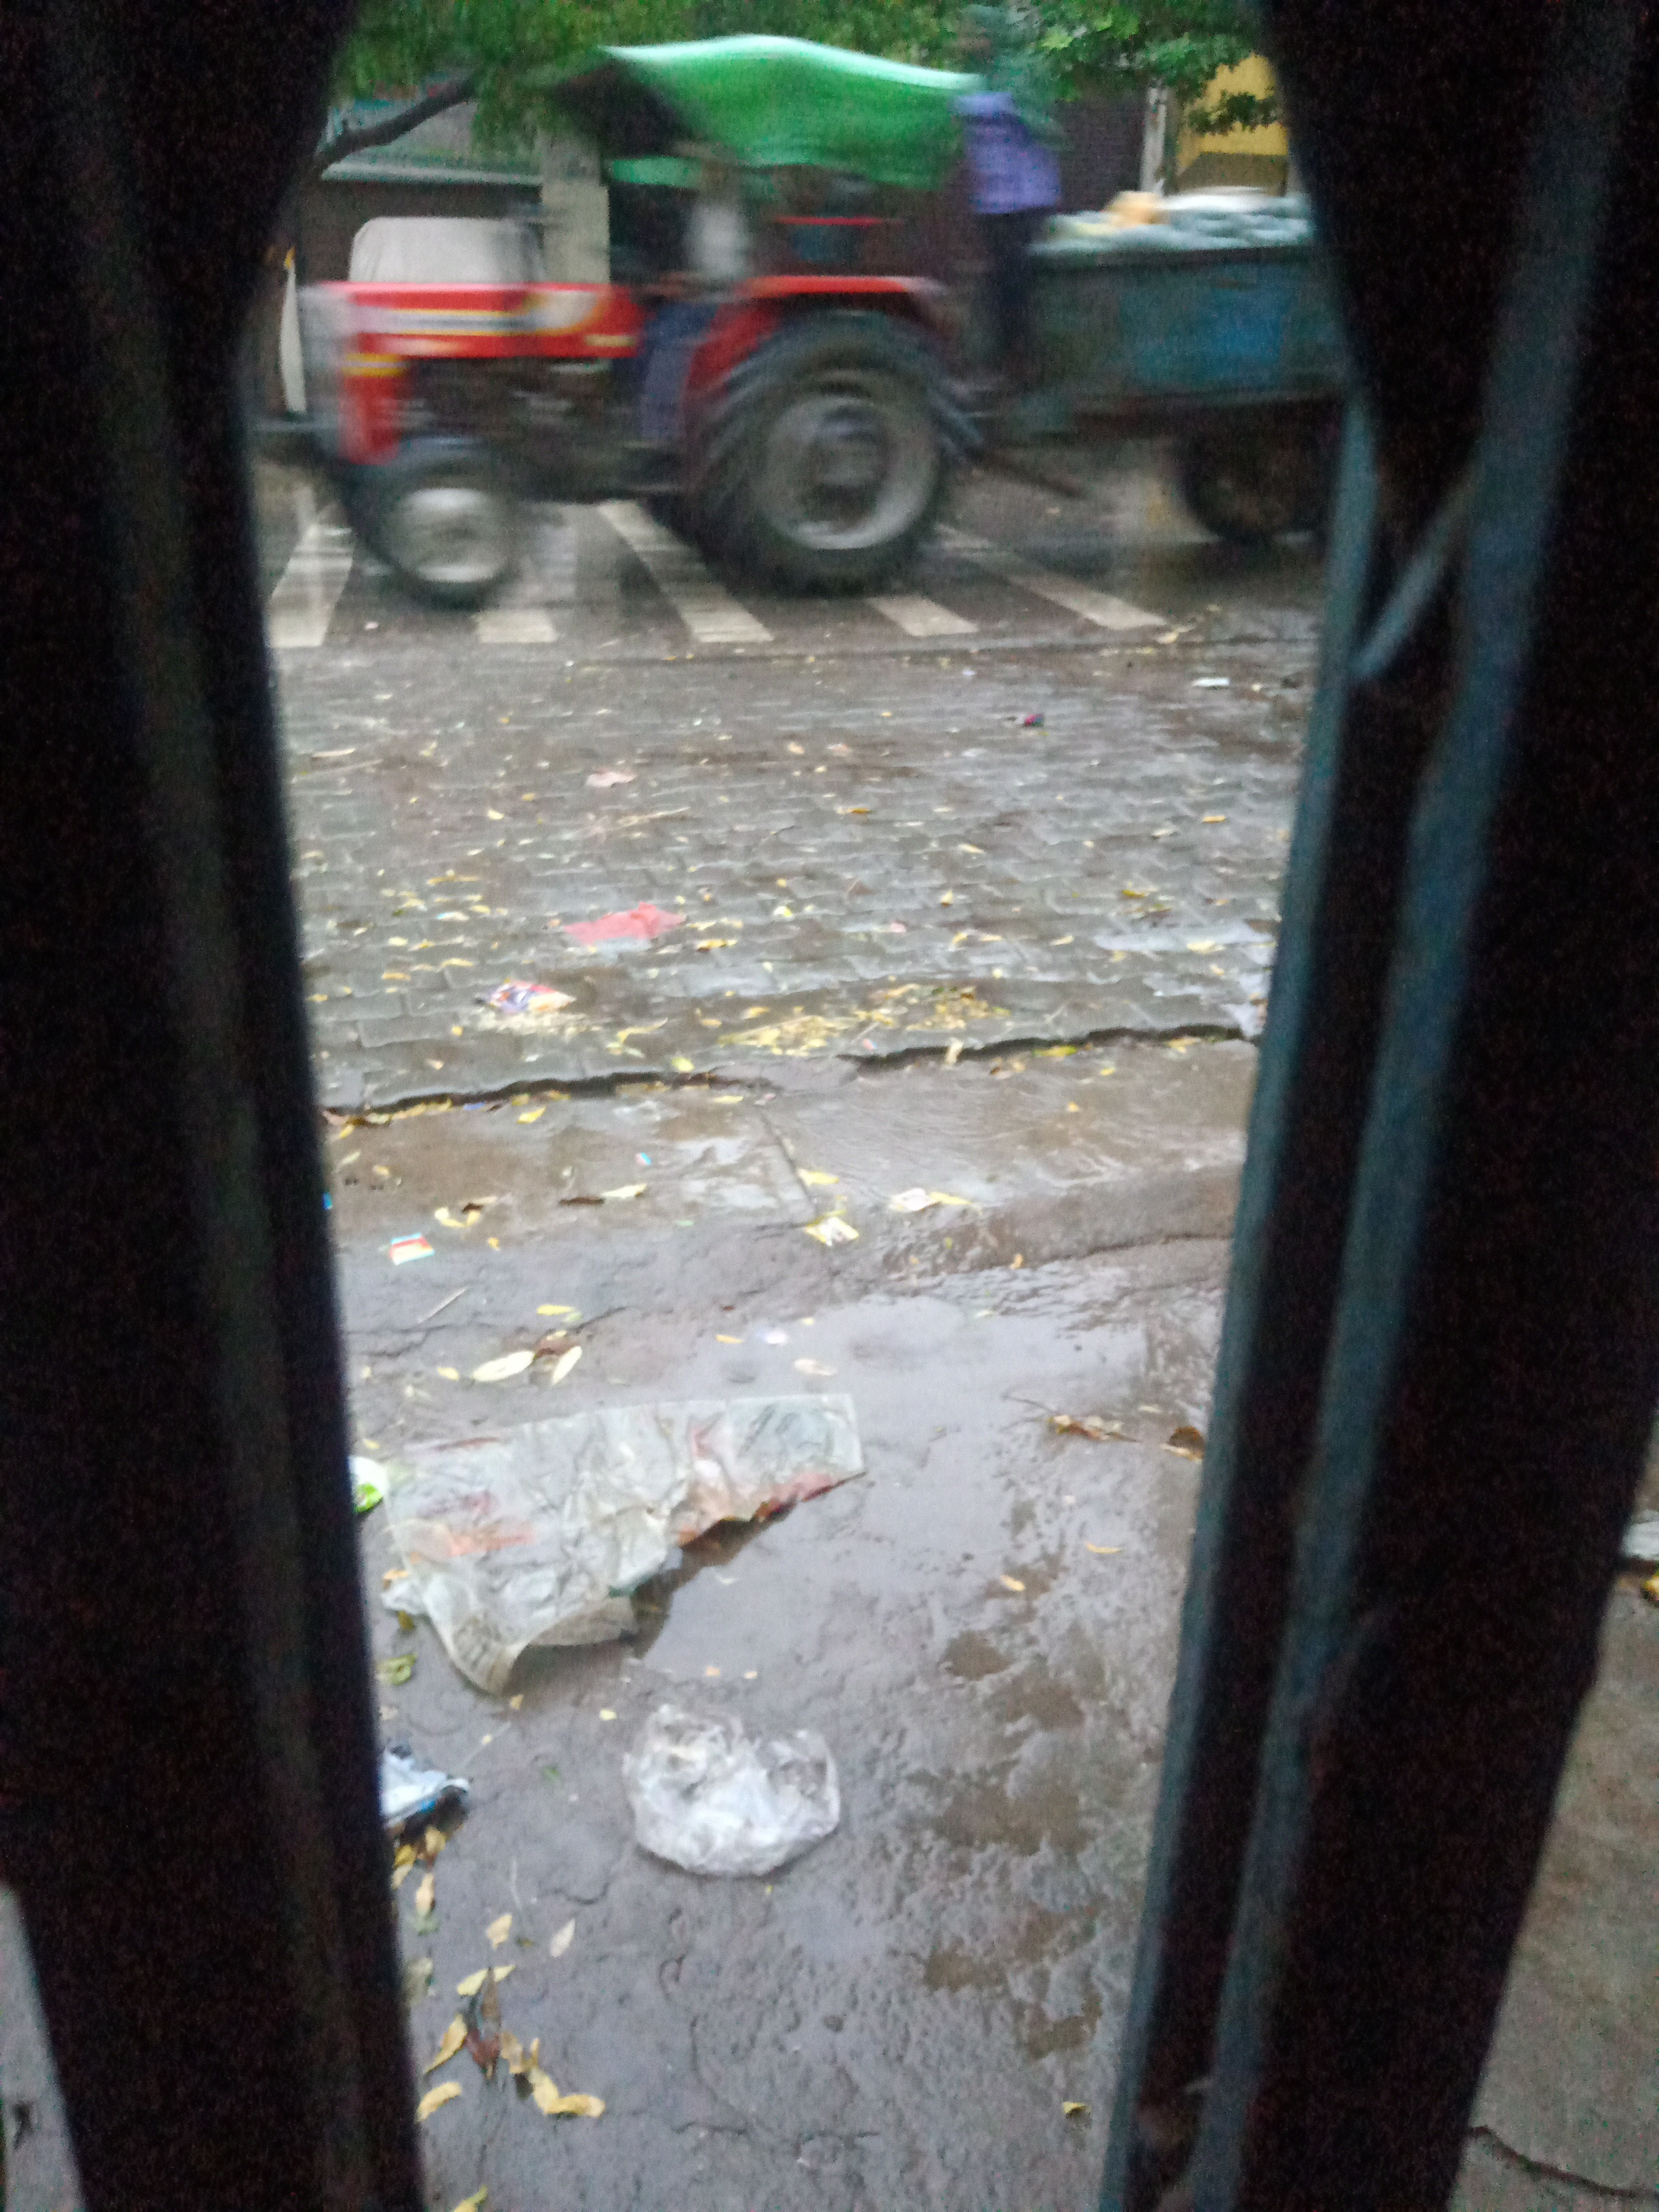tractor: (253, 30, 1335, 610)
